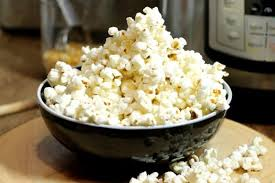popcorn: (32, 3, 244, 127)
